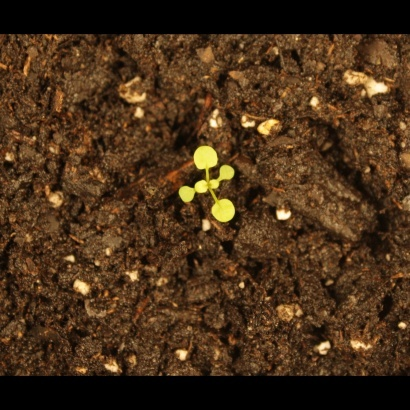leaf: (204, 198, 242, 226), (191, 144, 221, 172), (173, 181, 196, 209), (215, 162, 238, 185), (191, 176, 214, 199)
